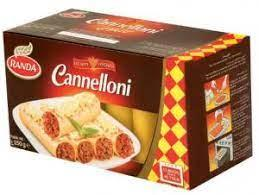Cannelloni: (3, 7, 254, 190)
